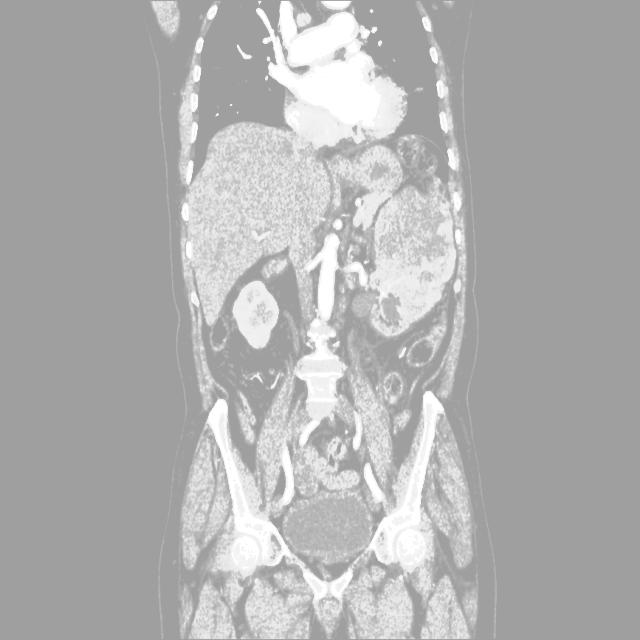TUMOR: (118, 210, 487, 346)
